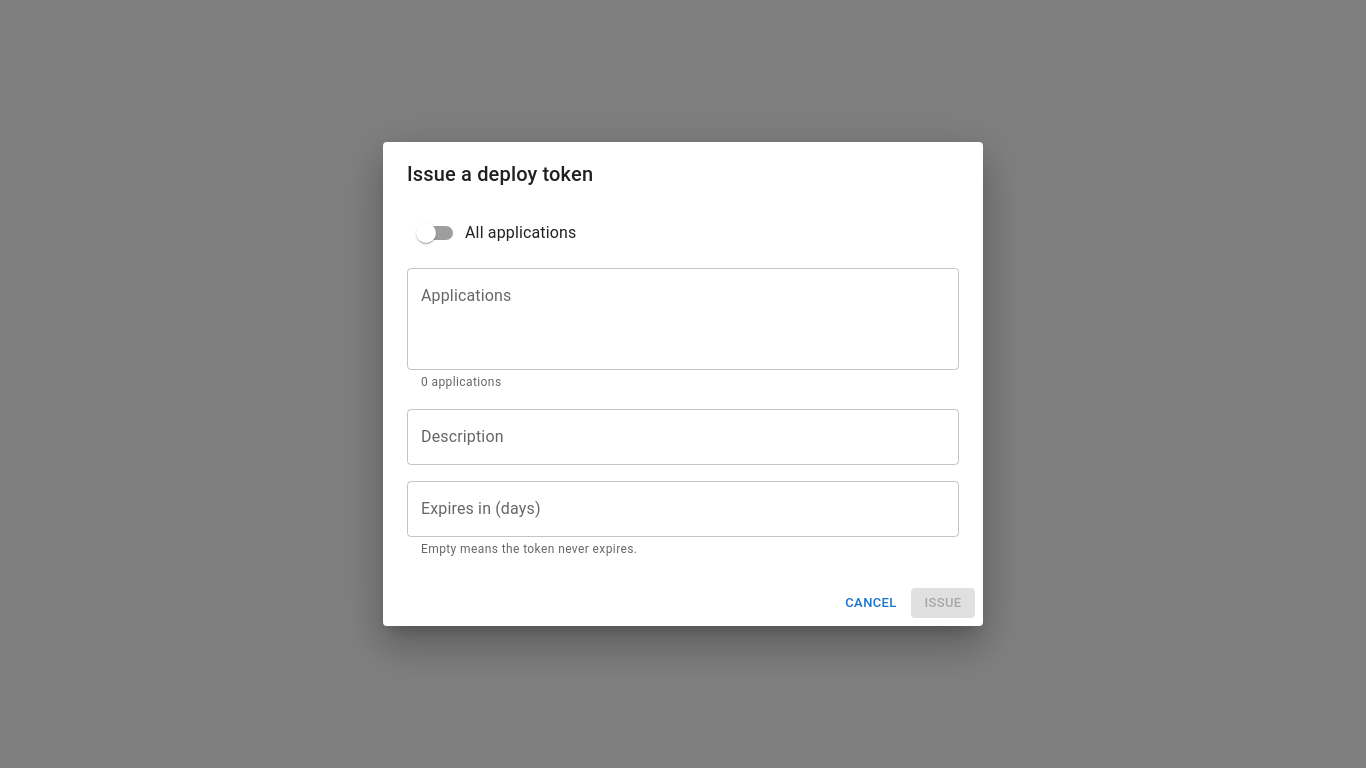
Test: IssueTokenDialog › keeps the dialog open and shows why a request was refused
Click the switch labelled "All applications" at (496, 233), box [416, 223, 576, 243]
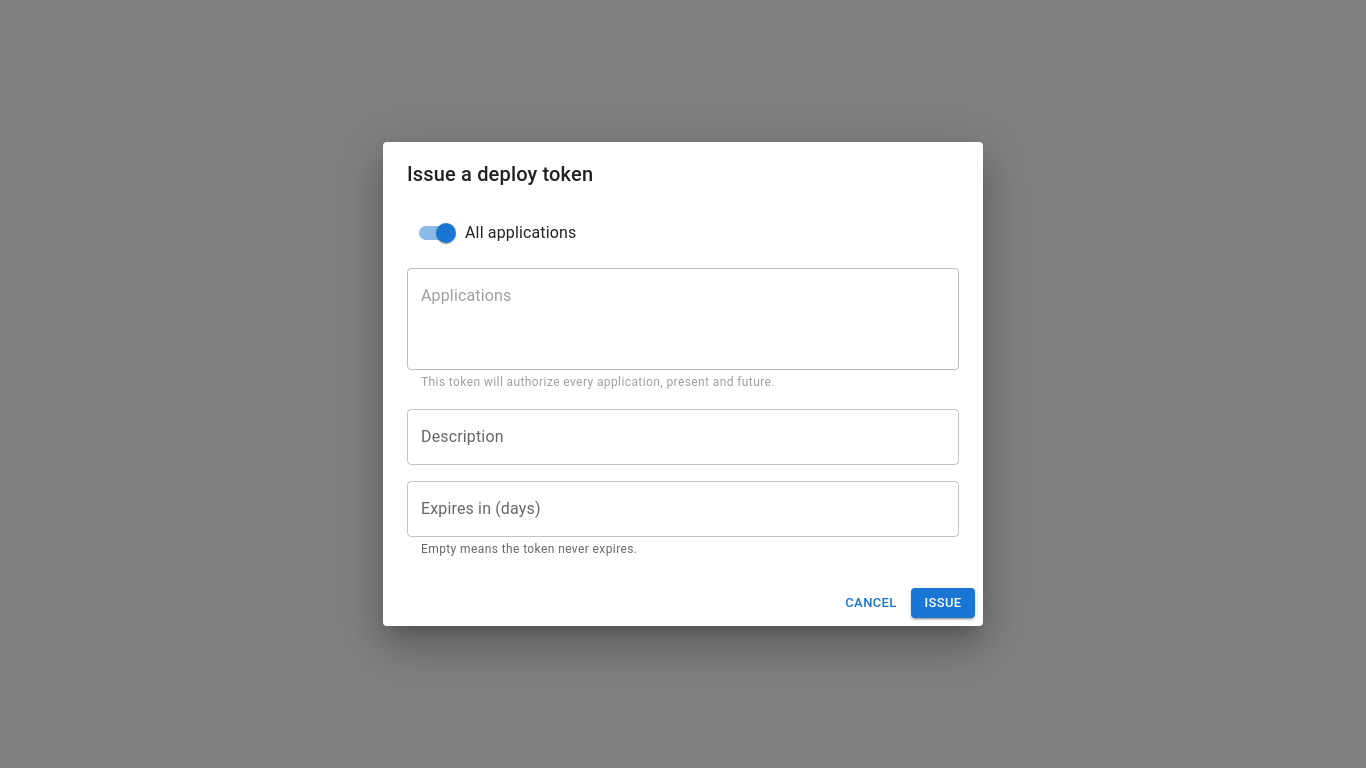
Click the button "Issue" at (943, 603), box [911, 588, 975, 618]
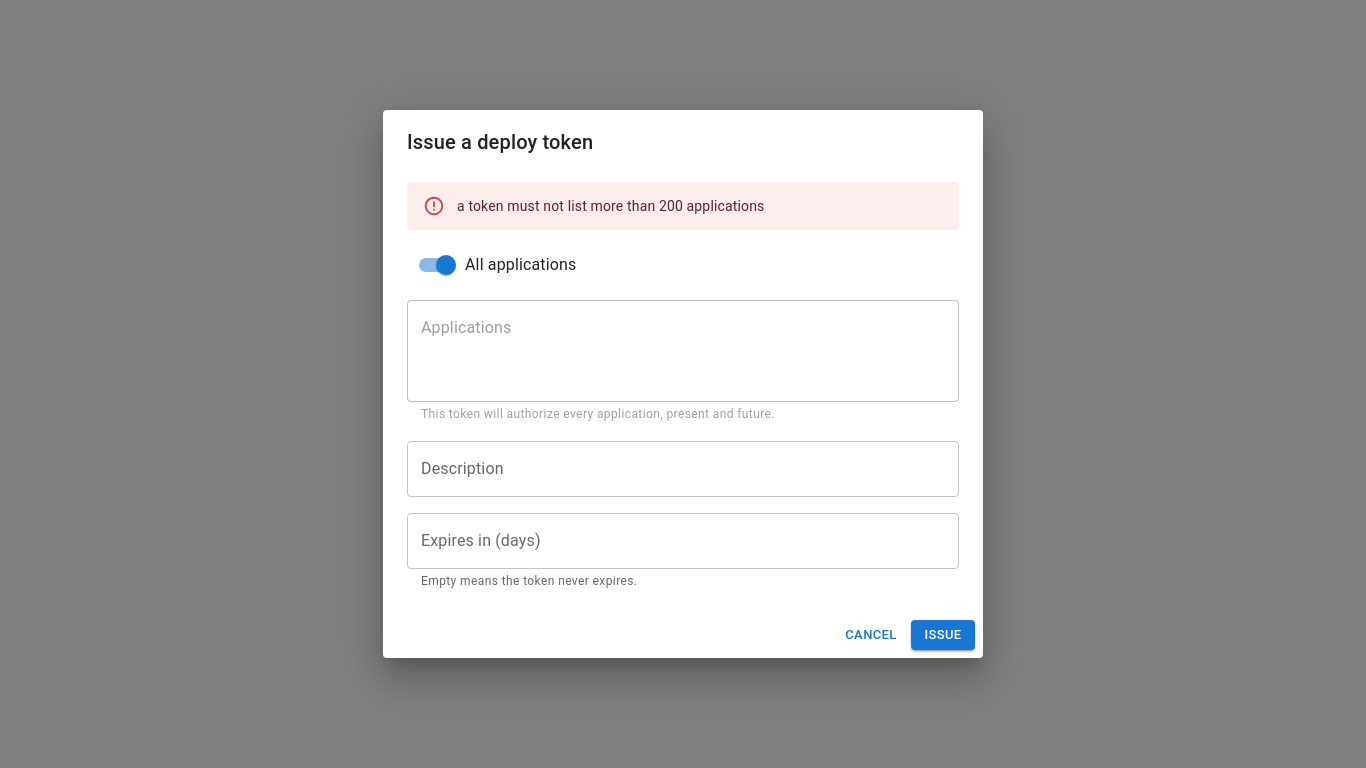
Now the text "a token must not list more than 200 applications" is shown, box [457, 198, 764, 214]
